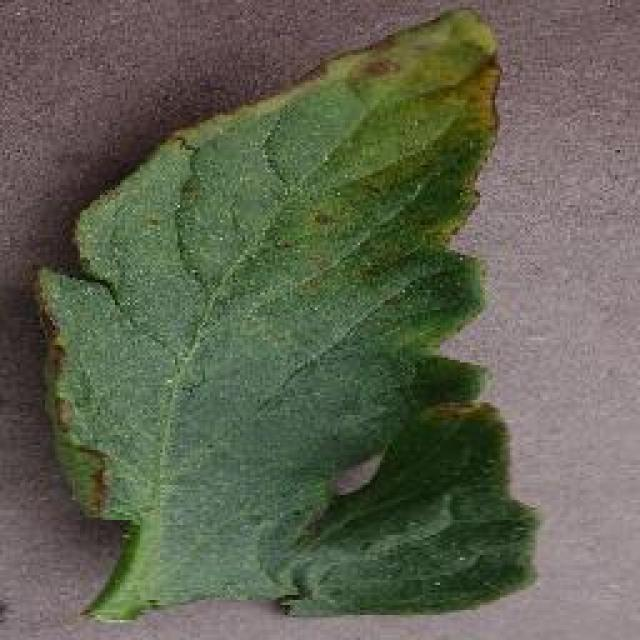Tomato___Bacterial_spot: (36, 4, 547, 626)
